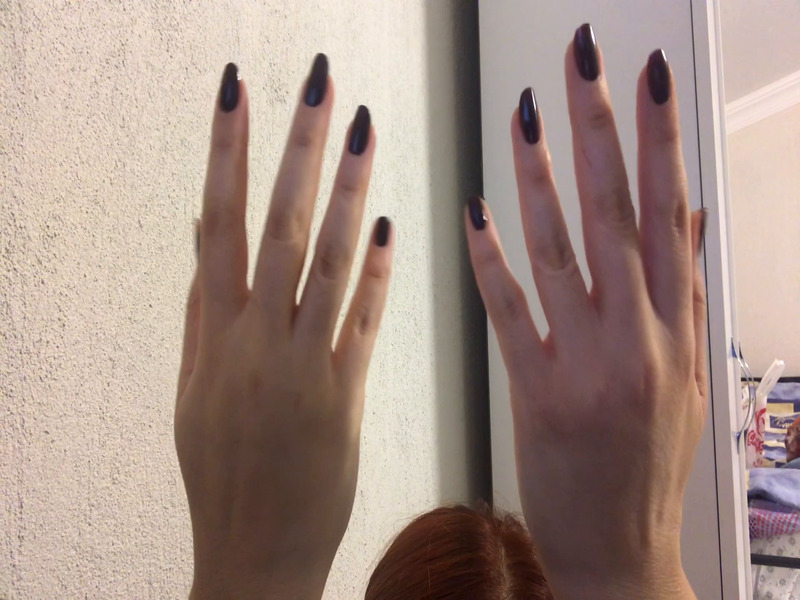hand: (460, 23, 715, 559), (177, 53, 406, 568)
